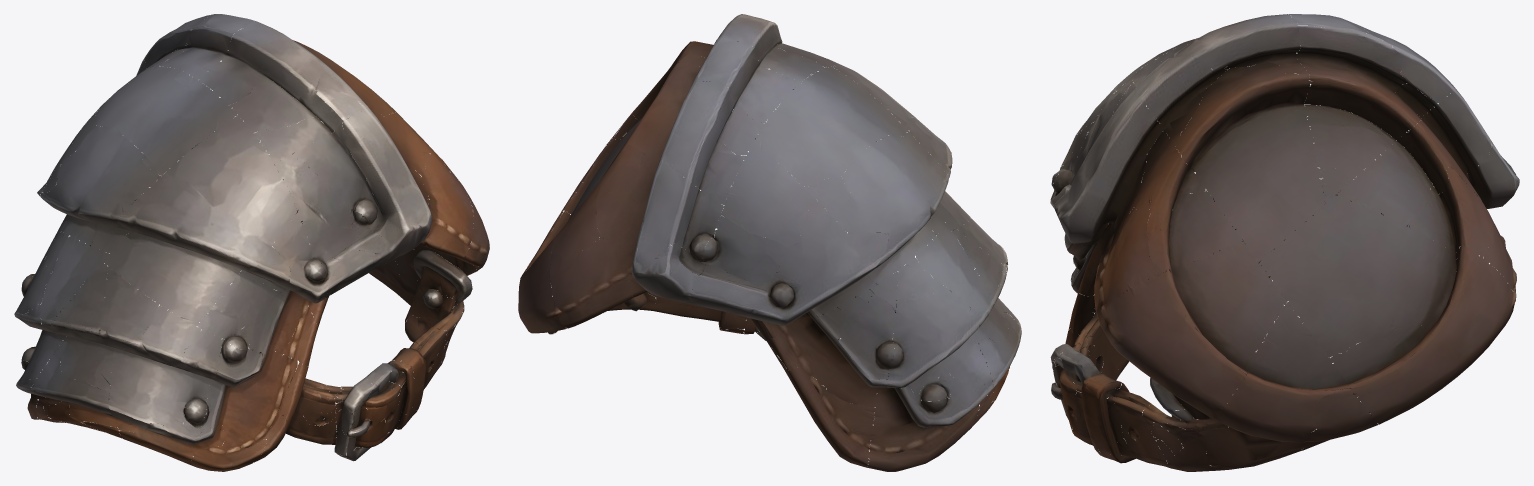
File: pauldron_n.glb
The picture shows the model from 3 angles, left to right: view 1: azimuth 30°, elevation 25°; view 2: azimuth 150°, elevation 25°; view 3: azimuth 270°, elevation 25°; orthographic projection. The views are drawn at different scales.
Visible parts, largest first — view 1: tripo_node_d1a06e76-13da-46a2-b9ce-24914a861f52; view 2: tripo_node_d1a06e76-13da-46a2-b9ce-24914a861f52; view 3: tripo_node_d1a06e76-13da-46a2-b9ce-24914a861f52.
Boxes of the visible parts, x1=… form: tripo_node_d1a06e76-13da-46a2-b9ce-24914a861f52: x1=14, y1=14, x2=489, y2=471; tripo_node_d1a06e76-13da-46a2-b9ce-24914a861f52: x1=518, y1=14, x2=1021, y2=471; tripo_node_d1a06e76-13da-46a2-b9ce-24914a861f52: x1=1050, y1=14, x2=1519, y2=471.
Bounding box in the file's own units: 0.9799 × 0.8121 × 0.8345.
Materials: 1 (1 with a texture image).
